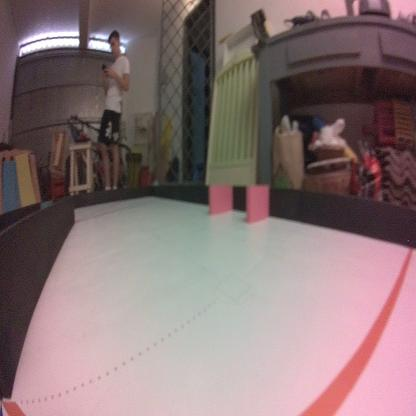magenta: (245, 186, 268, 222), (208, 181, 232, 215)
